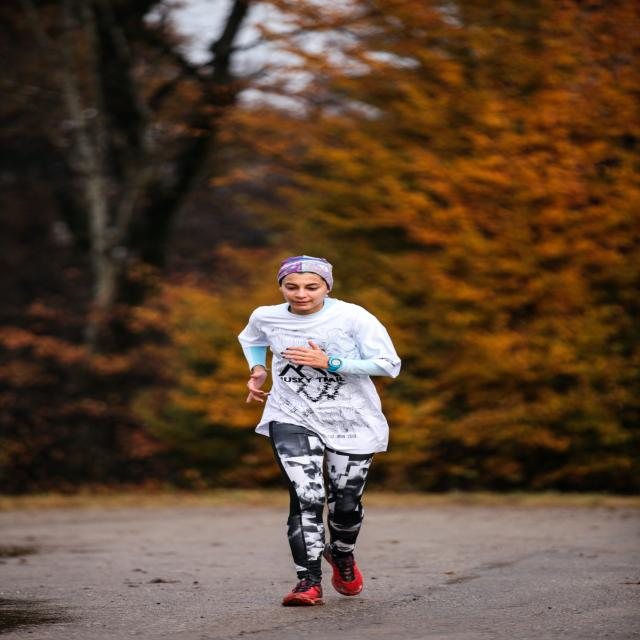running: (240, 251, 411, 612)
